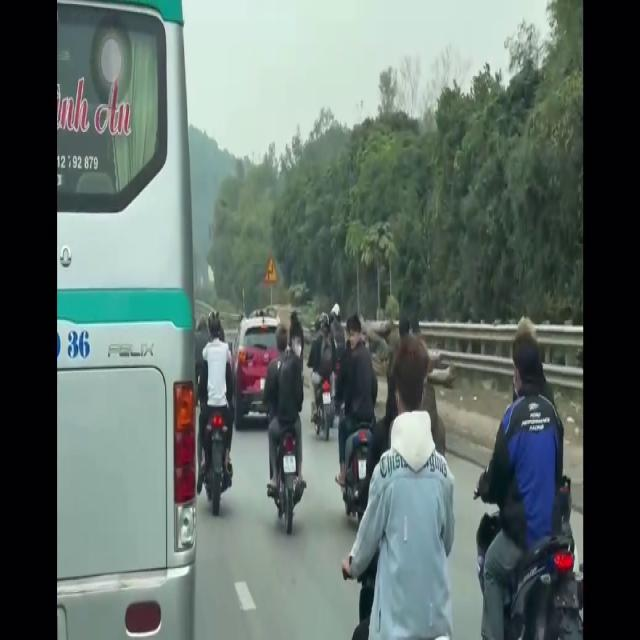no_helmet: (396, 336, 432, 454), (510, 328, 539, 413)
